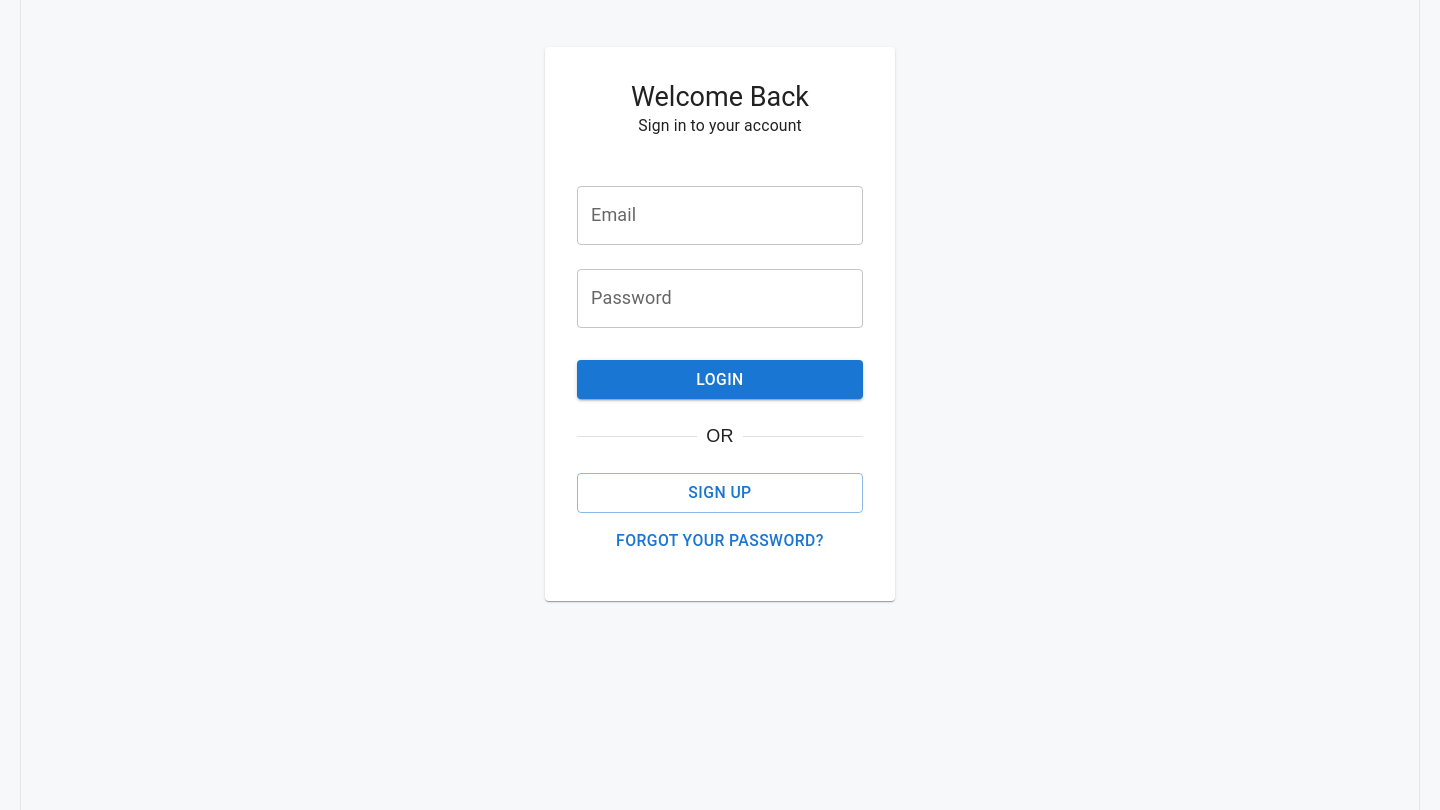
Test: Login › clears a previous error when the form is submitted again
Type "dana@example.com" into the field labelled "Email" at (720, 215), box [577,186,863,245]
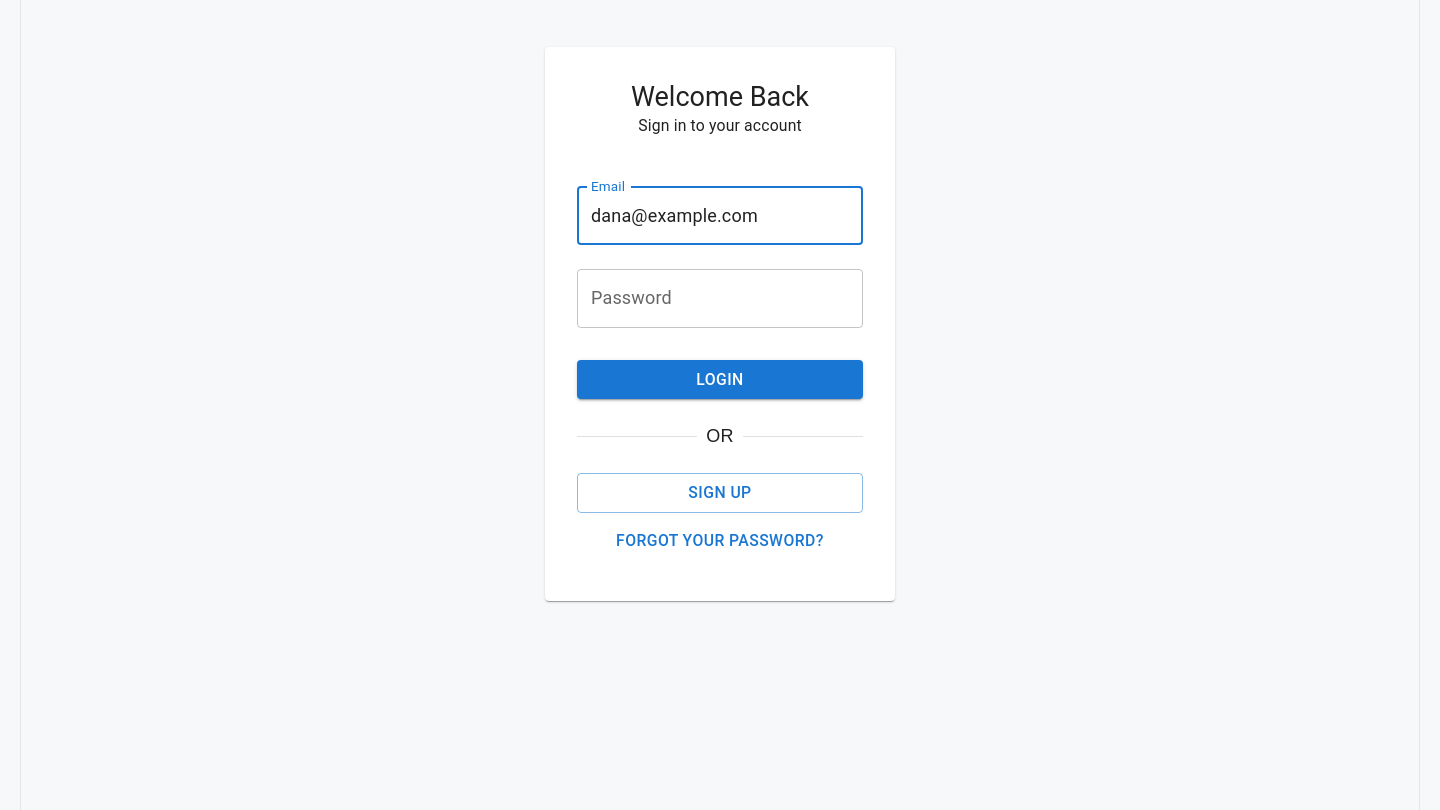
Type "wrong" into the password field labelled "Password" at (720, 298), box [577,269,863,328]
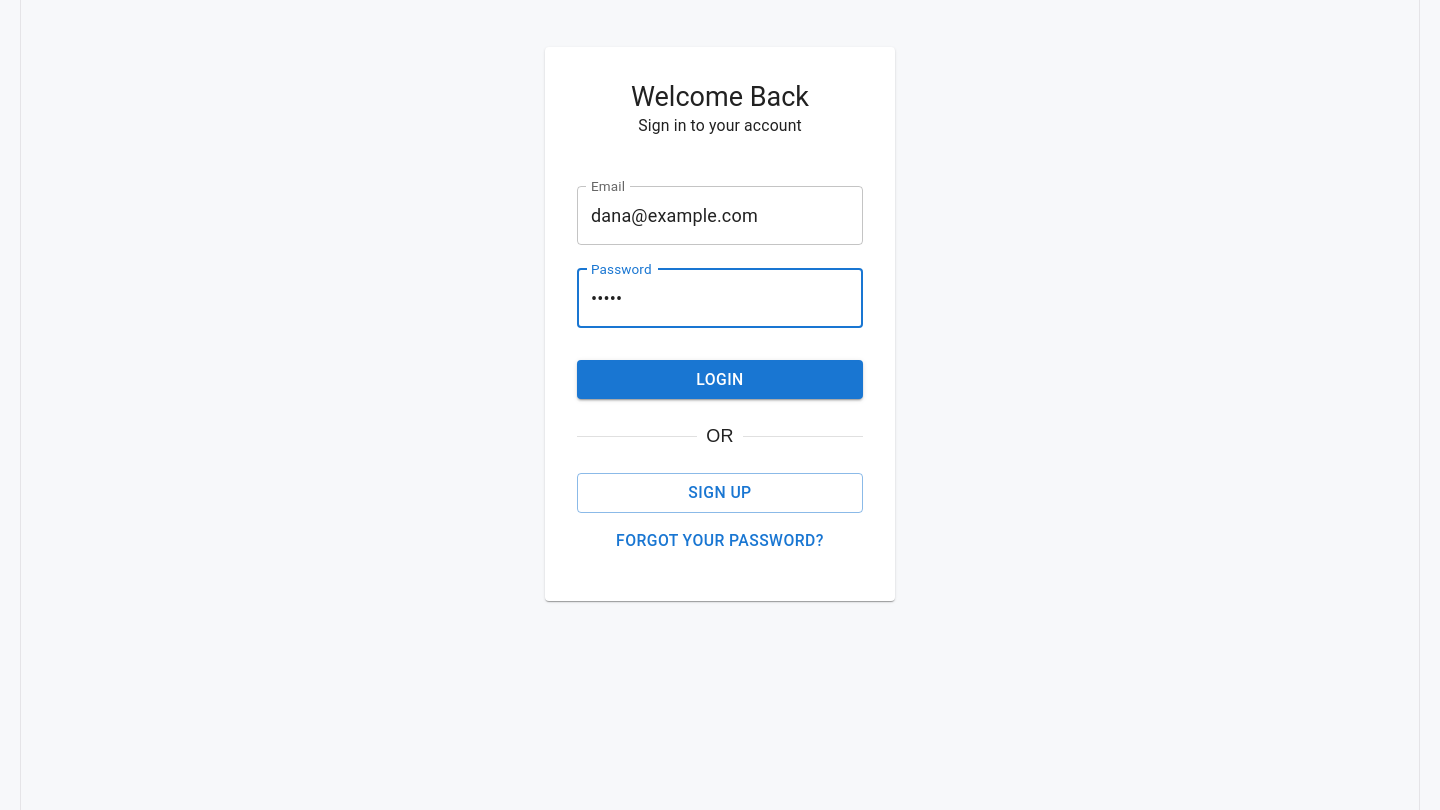
Click the button "Login" at (720, 380), box [577,360,863,399]
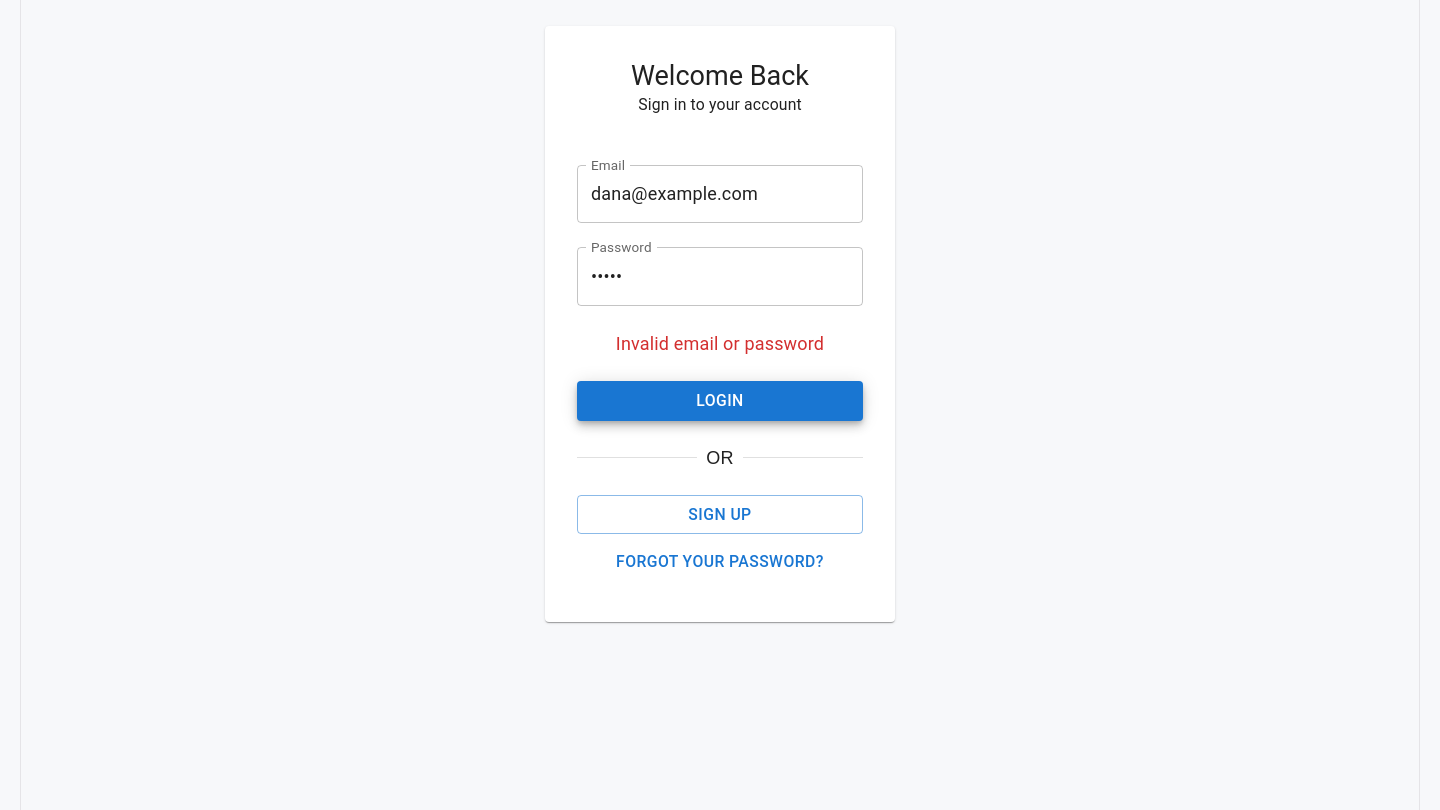
Result: the text "Invalid email or password" is shown at [616,333,824,354]
Click the button "Login" at (720, 401), box [577,381,863,421]
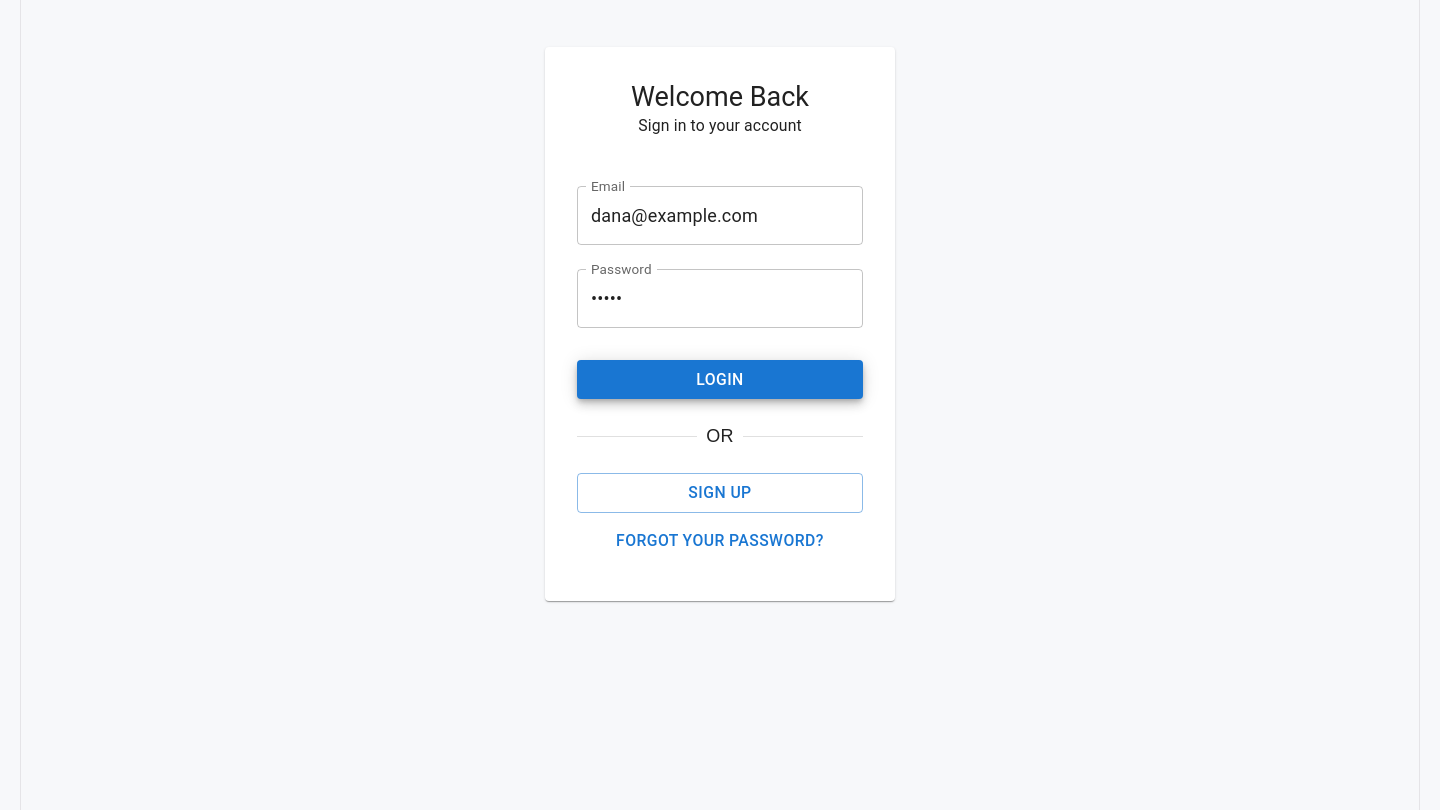
Result: the text "Invalid email or password" is gone
